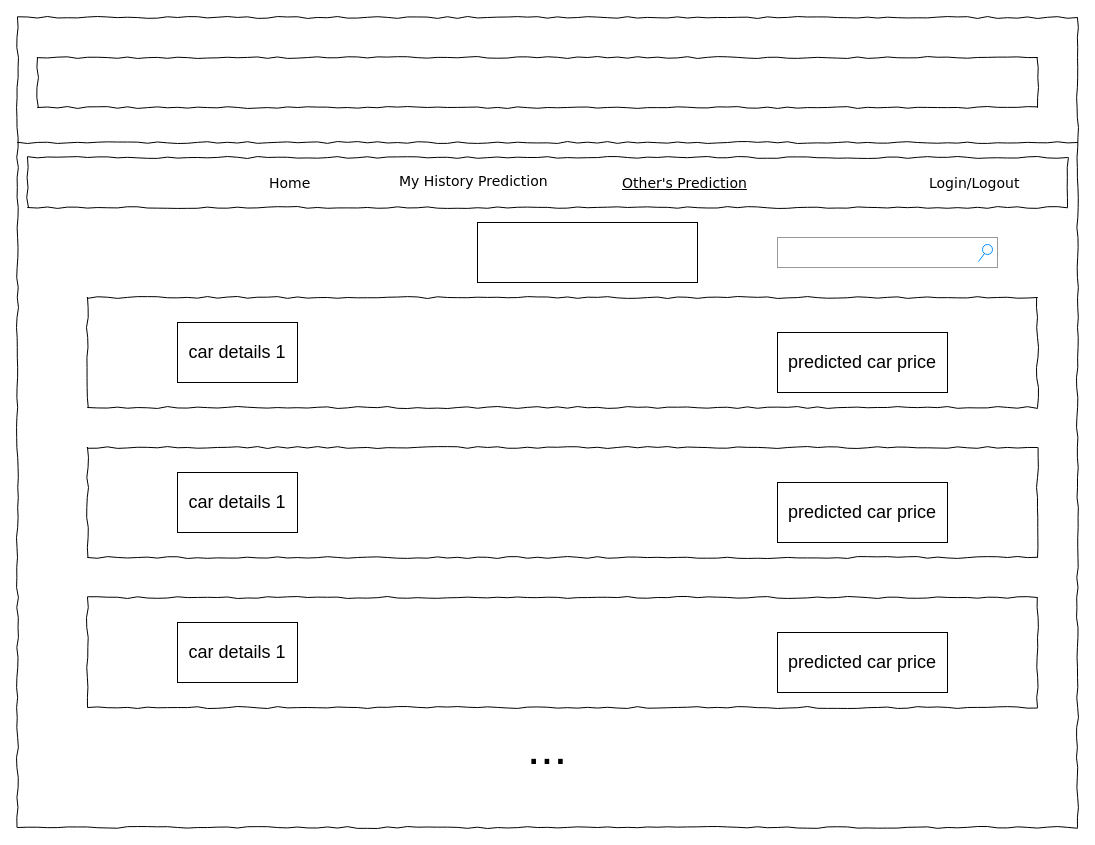
This 1095x845 diagram has some shape labels left out. The shapes that lost their labels are listed below. From the top down, each one's box as (x1, y1, x2, y2) in pixels, then its label:
(36, 56, 1038, 108): LOGO
(476, 222, 698, 282): return top 20 order by date desc
(776, 236, 998, 268): search price range
